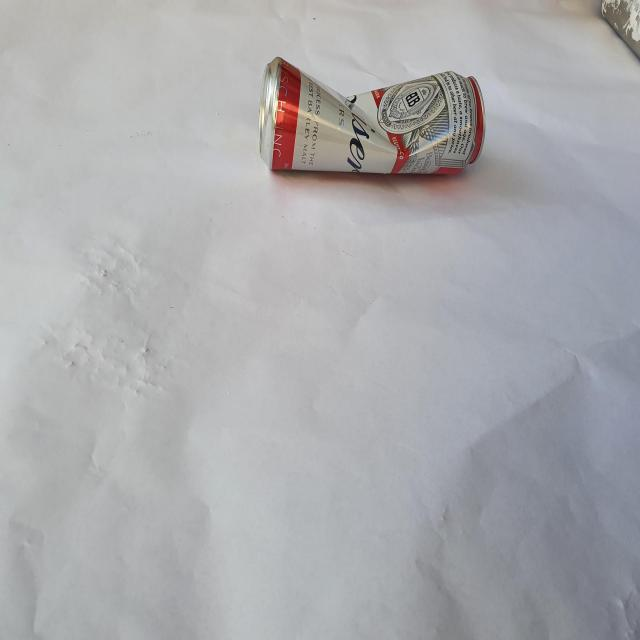can: (260, 56, 486, 173)
